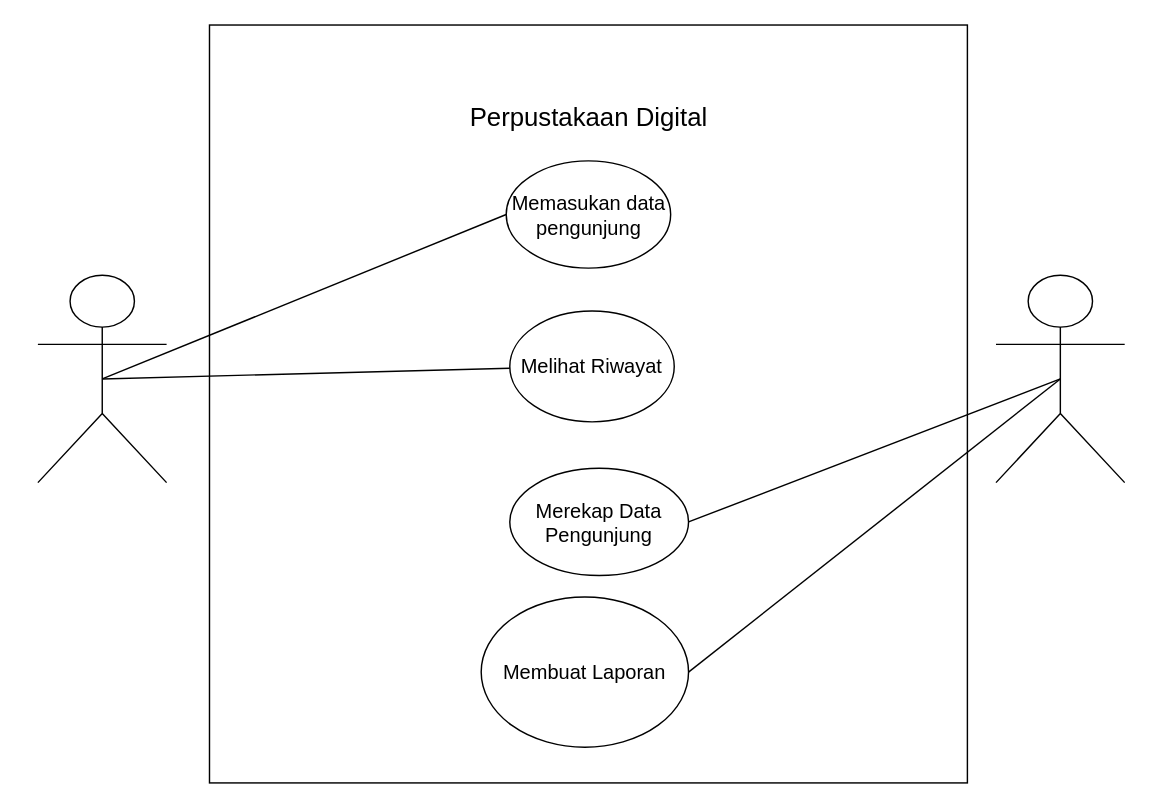
Image size: 1150x808. Some labels were removed from this diagram. Each missing label, with the box of its shape:
anggota pengunjung: (36, 274, 167, 483)
Pustakawan: (995, 274, 1125, 483)
